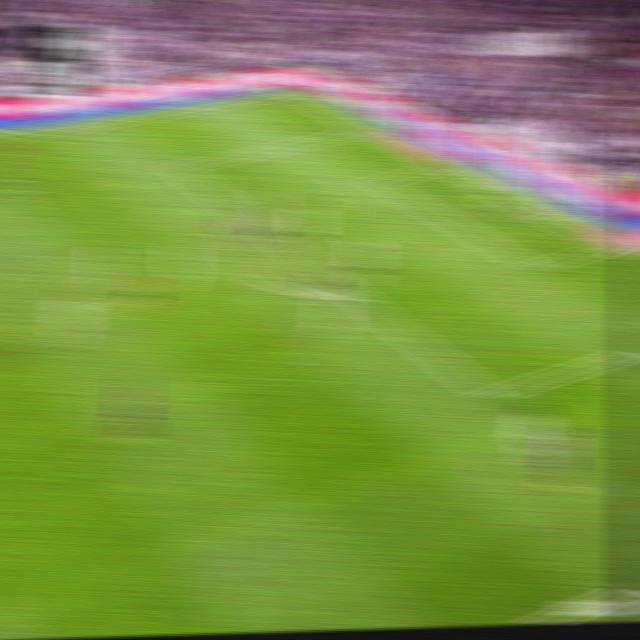bigarea_bottom_inner: (476, 381, 506, 409)
bigarea_top_inner: (168, 161, 192, 175)
bigarea_top_outter: (353, 123, 375, 134)
corner: (278, 87, 302, 95)
smallarea_bottom_inner: (521, 256, 547, 278)
smallarea_top_inner: (368, 175, 391, 187)
top_arc_area_intersection: (240, 213, 263, 226)
